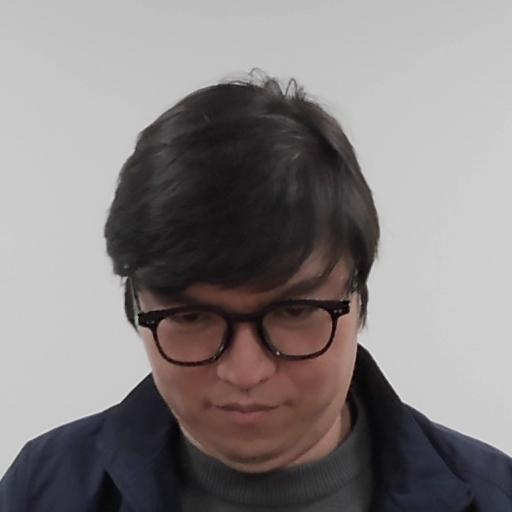no_glasses: (110, 97, 380, 458)
